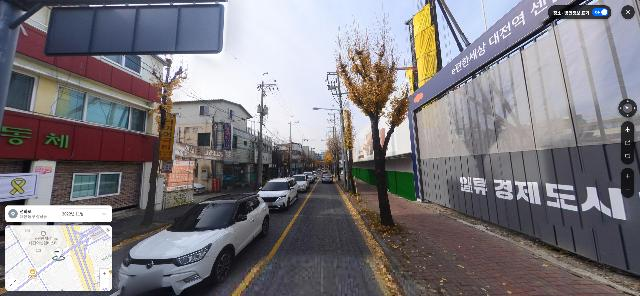ginkgo: (335, 9, 413, 226), (143, 54, 188, 224), (337, 109, 362, 193), (326, 135, 342, 183)
other: (271, 139, 292, 177), (299, 149, 305, 172)
